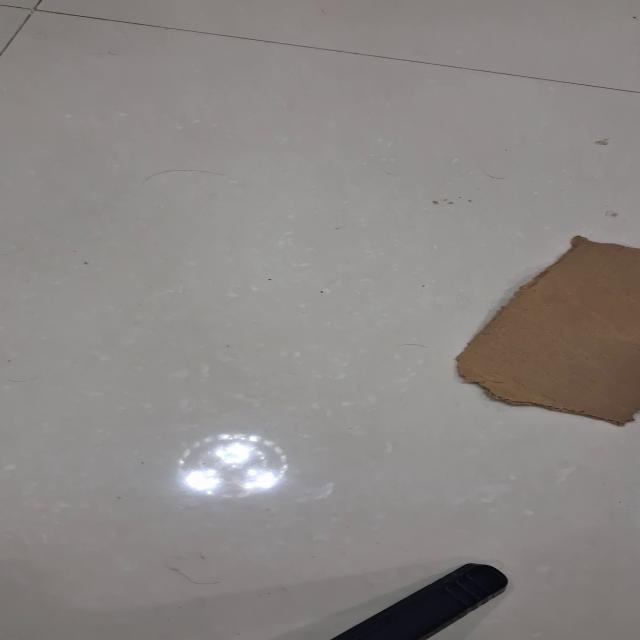paper: (2, 0, 638, 639), (453, 234, 639, 427)
